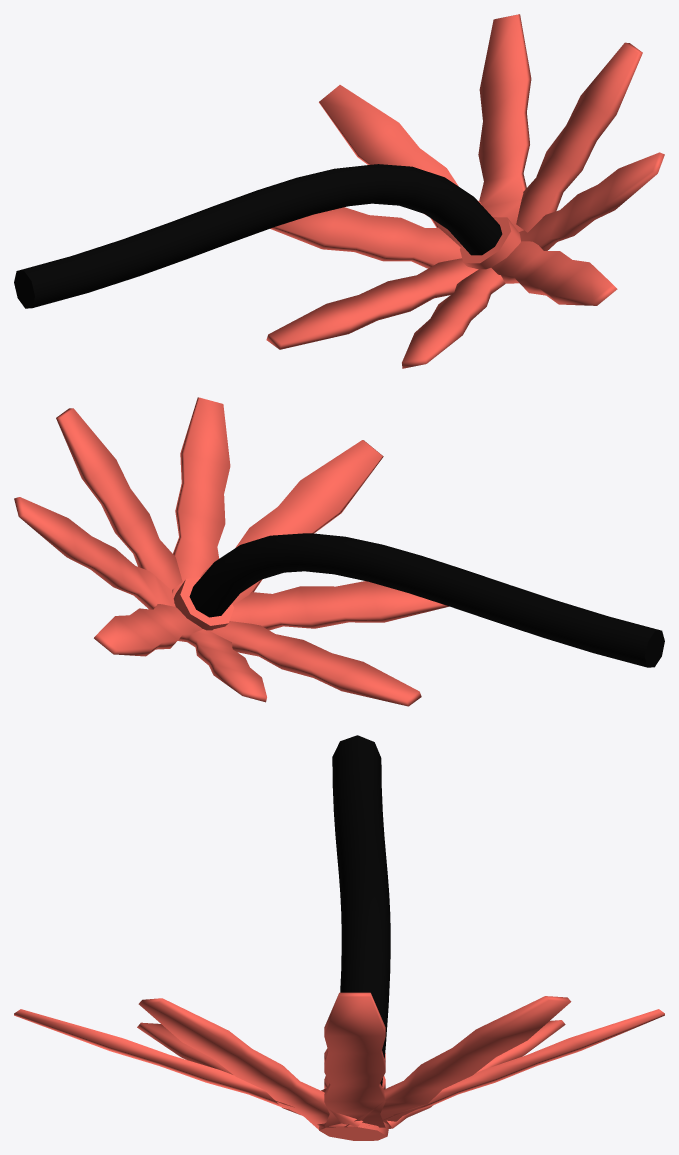
Rendered from item-bluh-stick.glb.
3 views of the same model, one above another, from view 1: azimuth 30°, elevation 25°; view 2: azimuth 150°, elevation 25°; view 3: azimuth 270°, elevation 25° (orthographic). The views are drawn at different scales.
Bounding box in the file's own units: 2.69 × 0.8824 × 2.12.
